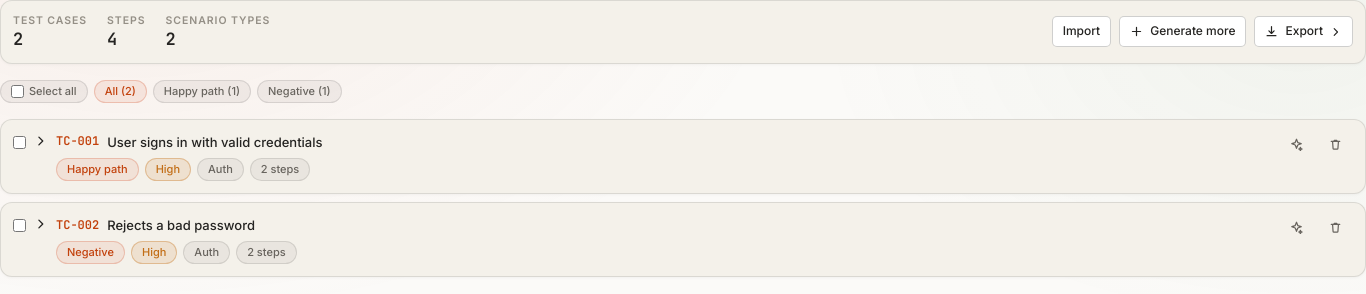
Test: TestCasesDisplay filtering › filters by scenario type
Click the button "Negative (1)" at (299, 91), box [257, 80, 342, 102]
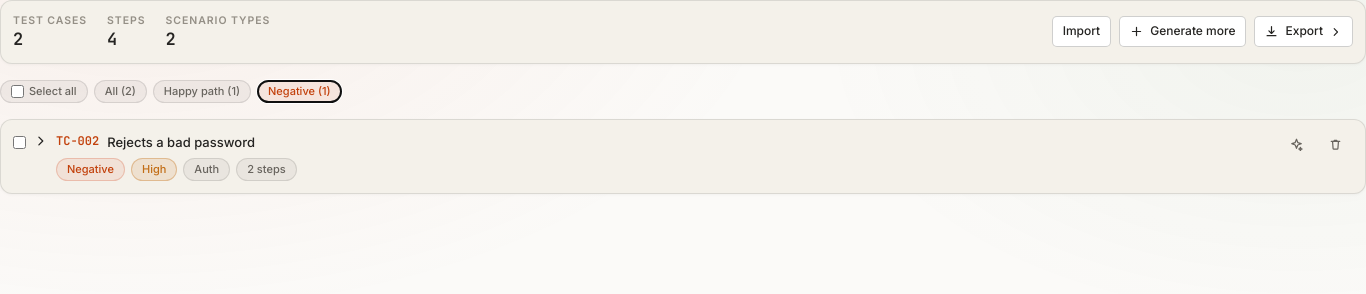
Expected: the button "Rejects a bad password" is shown, [107, 132, 255, 152]
Result: the button "User signs in with valid credentials" is gone
